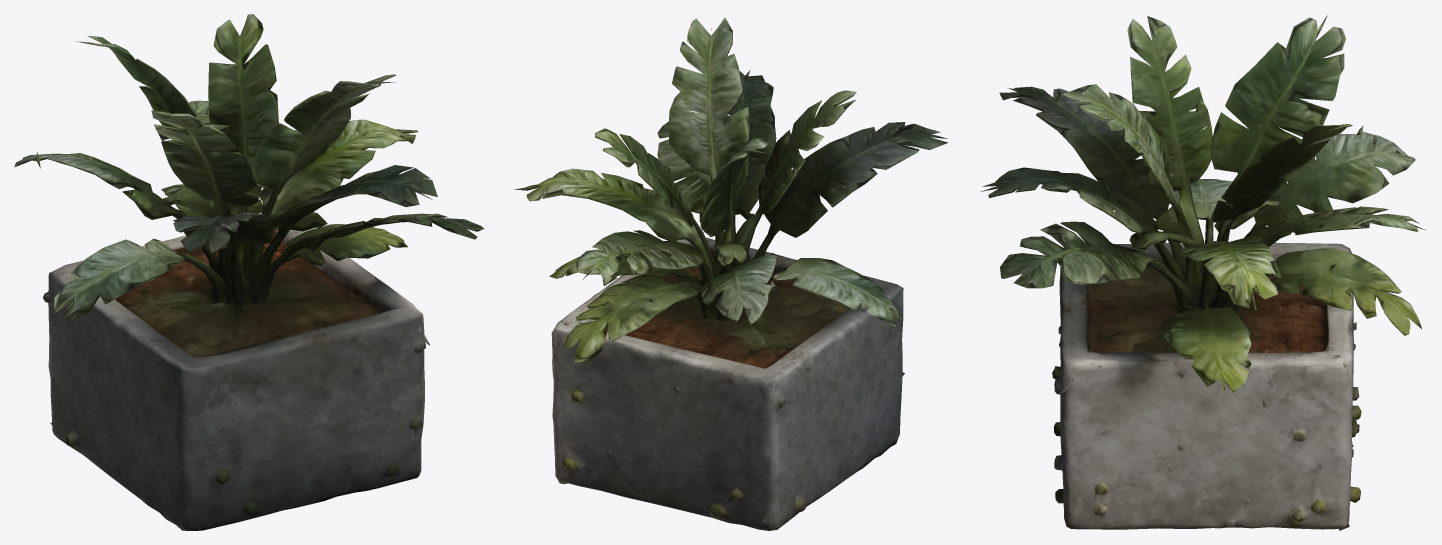
The model's file is planter_concrete.fbx.
3 renders of one model, left to right at view 1: azimuth 30°, elevation 25°; view 2: azimuth 150°, elevation 25°; view 3: azimuth 270°, elevation 25°, orthographic. The views are drawn at different scales.
Parts seen in each view (by area): view 1: planter_concrete; view 2: planter_concrete; view 3: planter_concrete.
Part boxes in pixels (x1,y1,x2,y2): planter_concrete: (14, 14, 484, 530); planter_concrete: (514, 17, 948, 530); planter_concrete: (980, 15, 1425, 530).
Size of the model in its own units: 1.2 by 1.2 by 1.17.
1 material, 1 textured.
